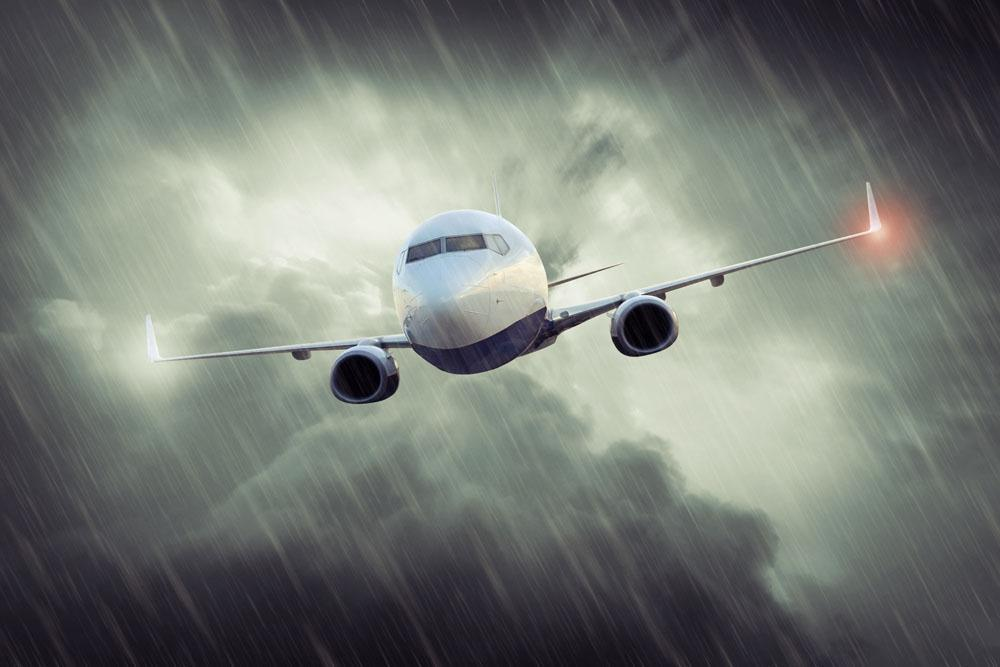airplane: (143, 177, 888, 407)
